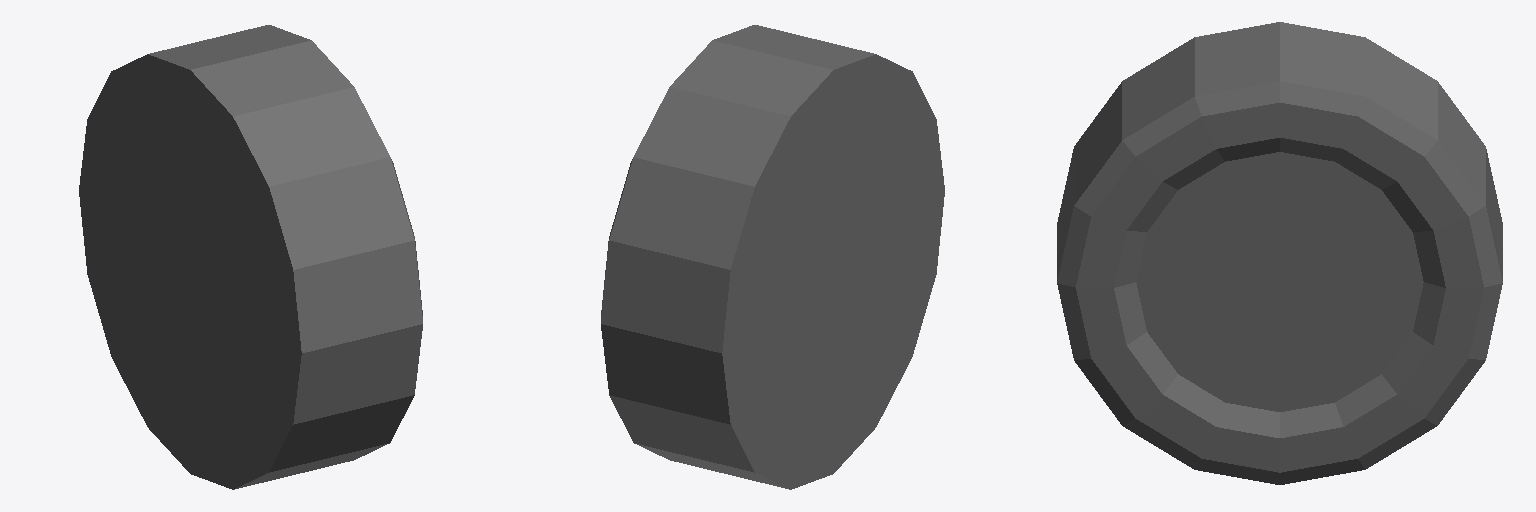
Rendered from sewage_wheel.obj.
The picture shows the model from 3 angles: view 1: azimuth 30°, elevation 25°; view 2: azimuth 150°, elevation 25°; view 3: azimuth 270°, elevation 25°; orthographic projection.
Visible parts, largest first — view 1: Sphere001.001_Untitled.000; view 2: Sphere001.001_Untitled.000; view 3: Sphere001.001_Untitled.000.
Boxes of the visible parts, x1,y1,x2,y2 form: Sphere001.001_Untitled.000: [79, 25, 422, 489]; Sphere001.001_Untitled.000: [601, 25, 944, 489]; Sphere001.001_Untitled.000: [1057, 22, 1502, 484].
Size of the model in its own units: 0.3508 by 1.03 by 1.03.